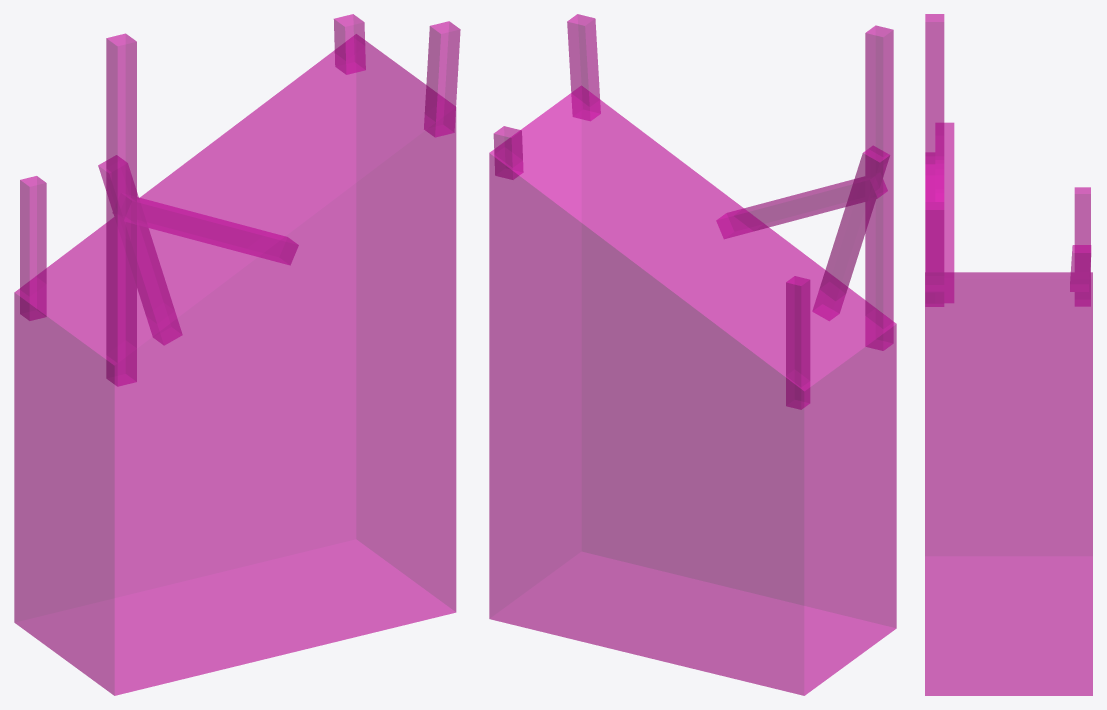
Rendered from SM_Prop_Scaffolding_03_Damaged_01_Collision.fbx.
3 renders of one model, left to right at view 1: azimuth 30°, elevation 25°; view 2: azimuth 150°, elevation 25°; view 3: azimuth 270°, elevation 25°, orthographic. The views are drawn at different scales.
Visible parts, largest first — view 1: SM_Prop_Scaffolding_03_Damaged_01_Collision; view 2: SM_Prop_Scaffolding_03_Damaged_01_Collision; view 3: SM_Prop_Scaffolding_03_Damaged_01_Collision.
Part boxes in pixels (x1=…): SM_Prop_Scaffolding_03_Damaged_01_Collision: x1=14, y1=14, x2=460, y2=695; SM_Prop_Scaffolding_03_Damaged_01_Collision: x1=489, y1=14, x2=896, y2=695; SM_Prop_Scaffolding_03_Damaged_01_Collision: x1=925, y1=14, x2=1092, y2=695.
Size of the model in its own units: 517 by 926 by 259.
